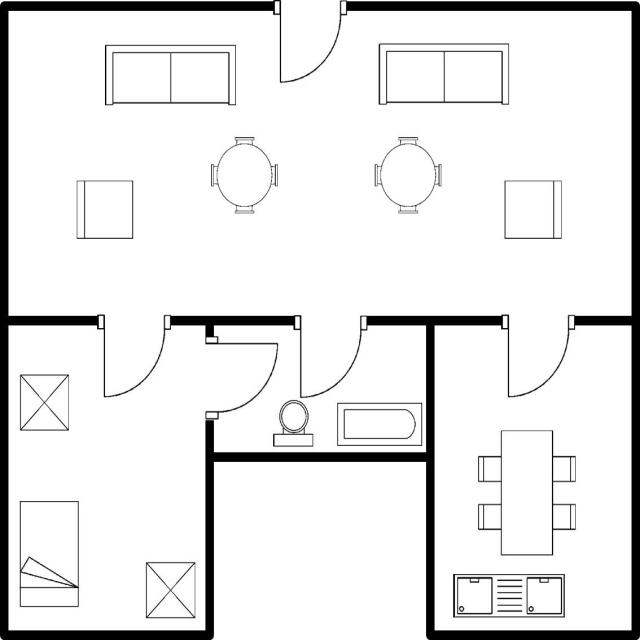bed: (16, 497, 83, 611)
coffee_table: (140, 558, 200, 623), (17, 370, 72, 435)
dining_table: (473, 424, 581, 558)
large_sink: (270, 395, 316, 451)
large_sofa: (101, 37, 242, 111), (375, 38, 512, 110)
round_table: (207, 130, 283, 217), (371, 130, 445, 218)
small_sofa: (501, 175, 566, 243), (71, 177, 136, 243)
tub: (333, 396, 423, 449)
twin_sink: (448, 568, 569, 622)
